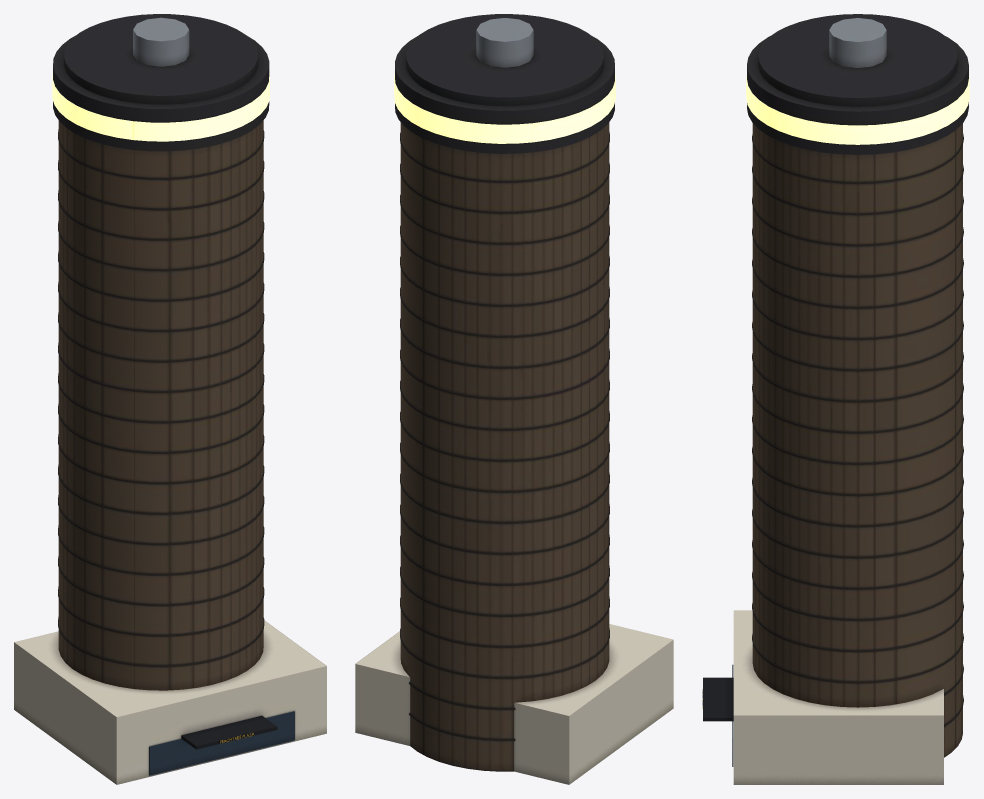
Rendered from westin_cilindro.glb.
3 views of the same model, side by side, from view 1: azimuth 30°, elevation 25°; view 2: azimuth 150°, elevation 25°; view 3: azimuth 270°, elevation 25° (orthographic). The views are drawn at different scales.
Visible parts, largest first — view 1: westin_cilindro; view 2: westin_cilindro; view 3: westin_cilindro.
Part boxes in pixels (left/top/right/bottom): westin_cilindro: left=14, top=14, right=326, bottom=784; westin_cilindro: left=355, top=14, right=673, bottom=784; westin_cilindro: left=702, top=14, right=969, bottom=784.
Bounding box in the file's own units: 26 × 81 × 27.94.
1 material, 1 textured.
